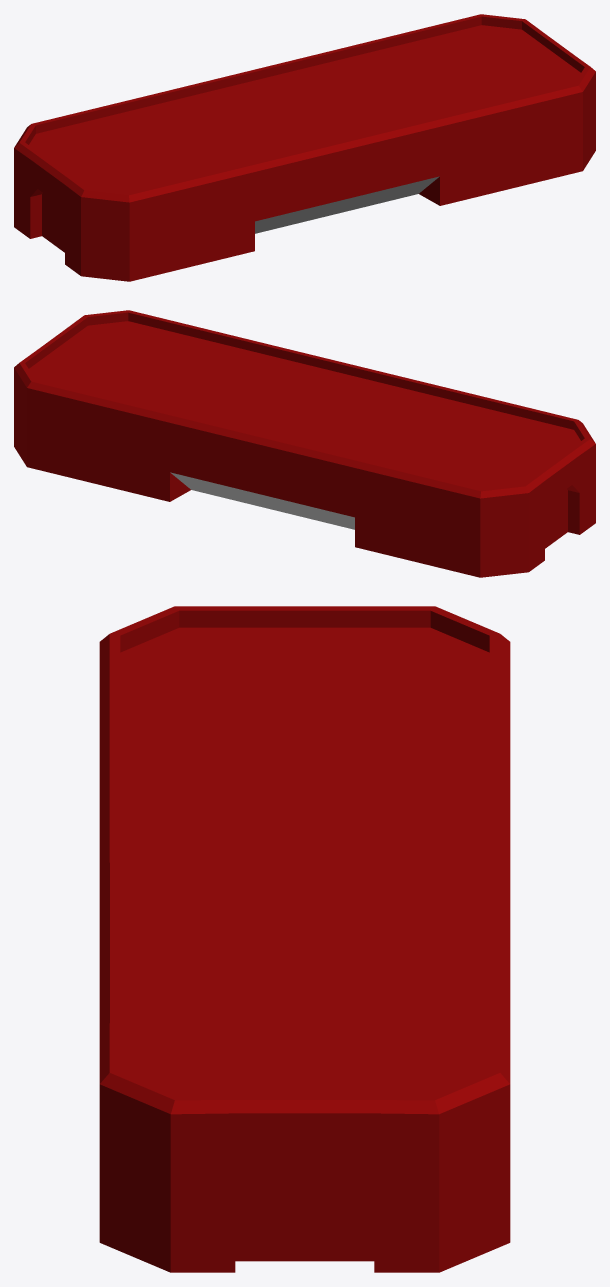
File: M_Coll_Table.FBX
The picture shows the model from 3 angles, top to bottom: view 1: azimuth 30°, elevation 25°; view 2: azimuth 150°, elevation 25°; view 3: azimuth 270°, elevation 25°; orthographic projection. The views are drawn at different scales.
Visible parts, largest first — view 1: M_Collectible_Table; view 2: M_Collectible_Table; view 3: M_Collectible_Table.
Boxes of the visible parts, x1,y1,x2,y2 form: M_Collectible_Table: (14,14,595,281); M_Collectible_Table: (14,310,595,577); M_Collectible_Table: (99,606,510,1272).
Bounding box in the file's own units: 540 × 186 × 84.35.
